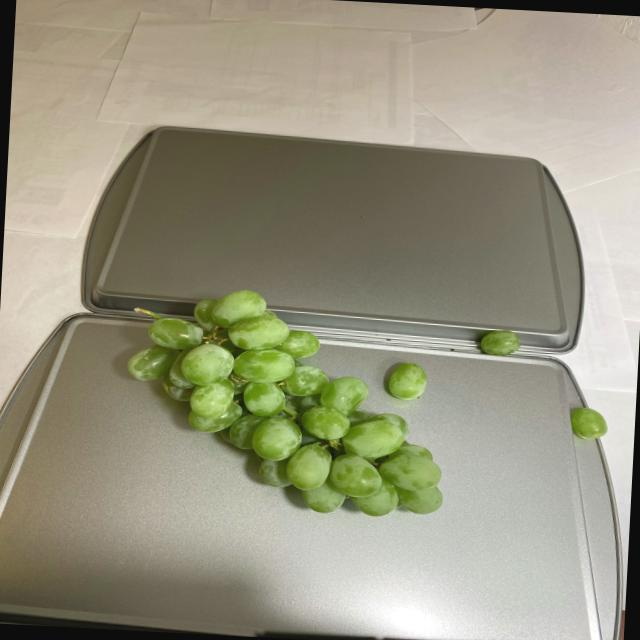grapes: (101, 286, 522, 527), (556, 400, 612, 453)
